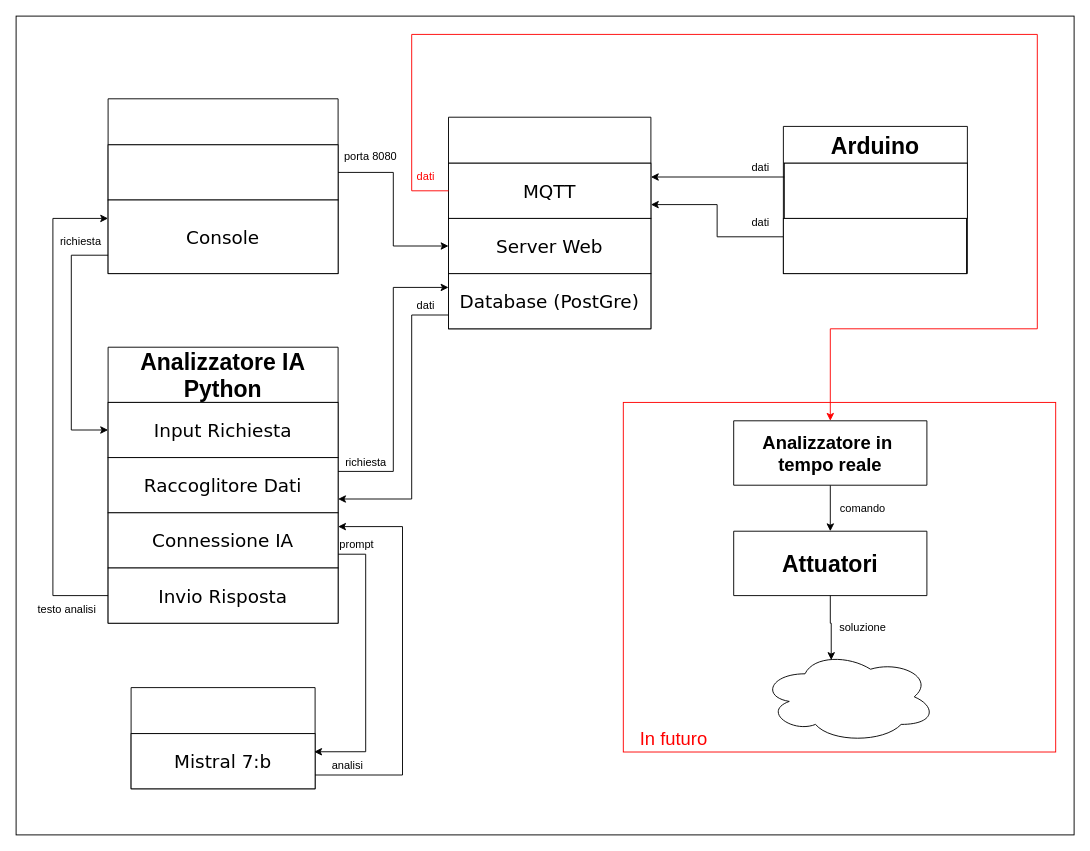
Some shapes in this 1090 by 851 pixel diagram are drawn without their labels. The box of each missing label's shape, as (x1, y1, x2, y2) in pixels:
App Desktop Java: (107, 98, 338, 274)
Ollama: (130, 687, 315, 789)
Sensore Fantasma: (782, 217, 966, 274)
Sensore Luce: (783, 162, 967, 218)
ThingsBoard: (448, 116, 651, 329)
Vita Reale: (760, 650, 936, 743)
Web Browser: (107, 144, 338, 200)
